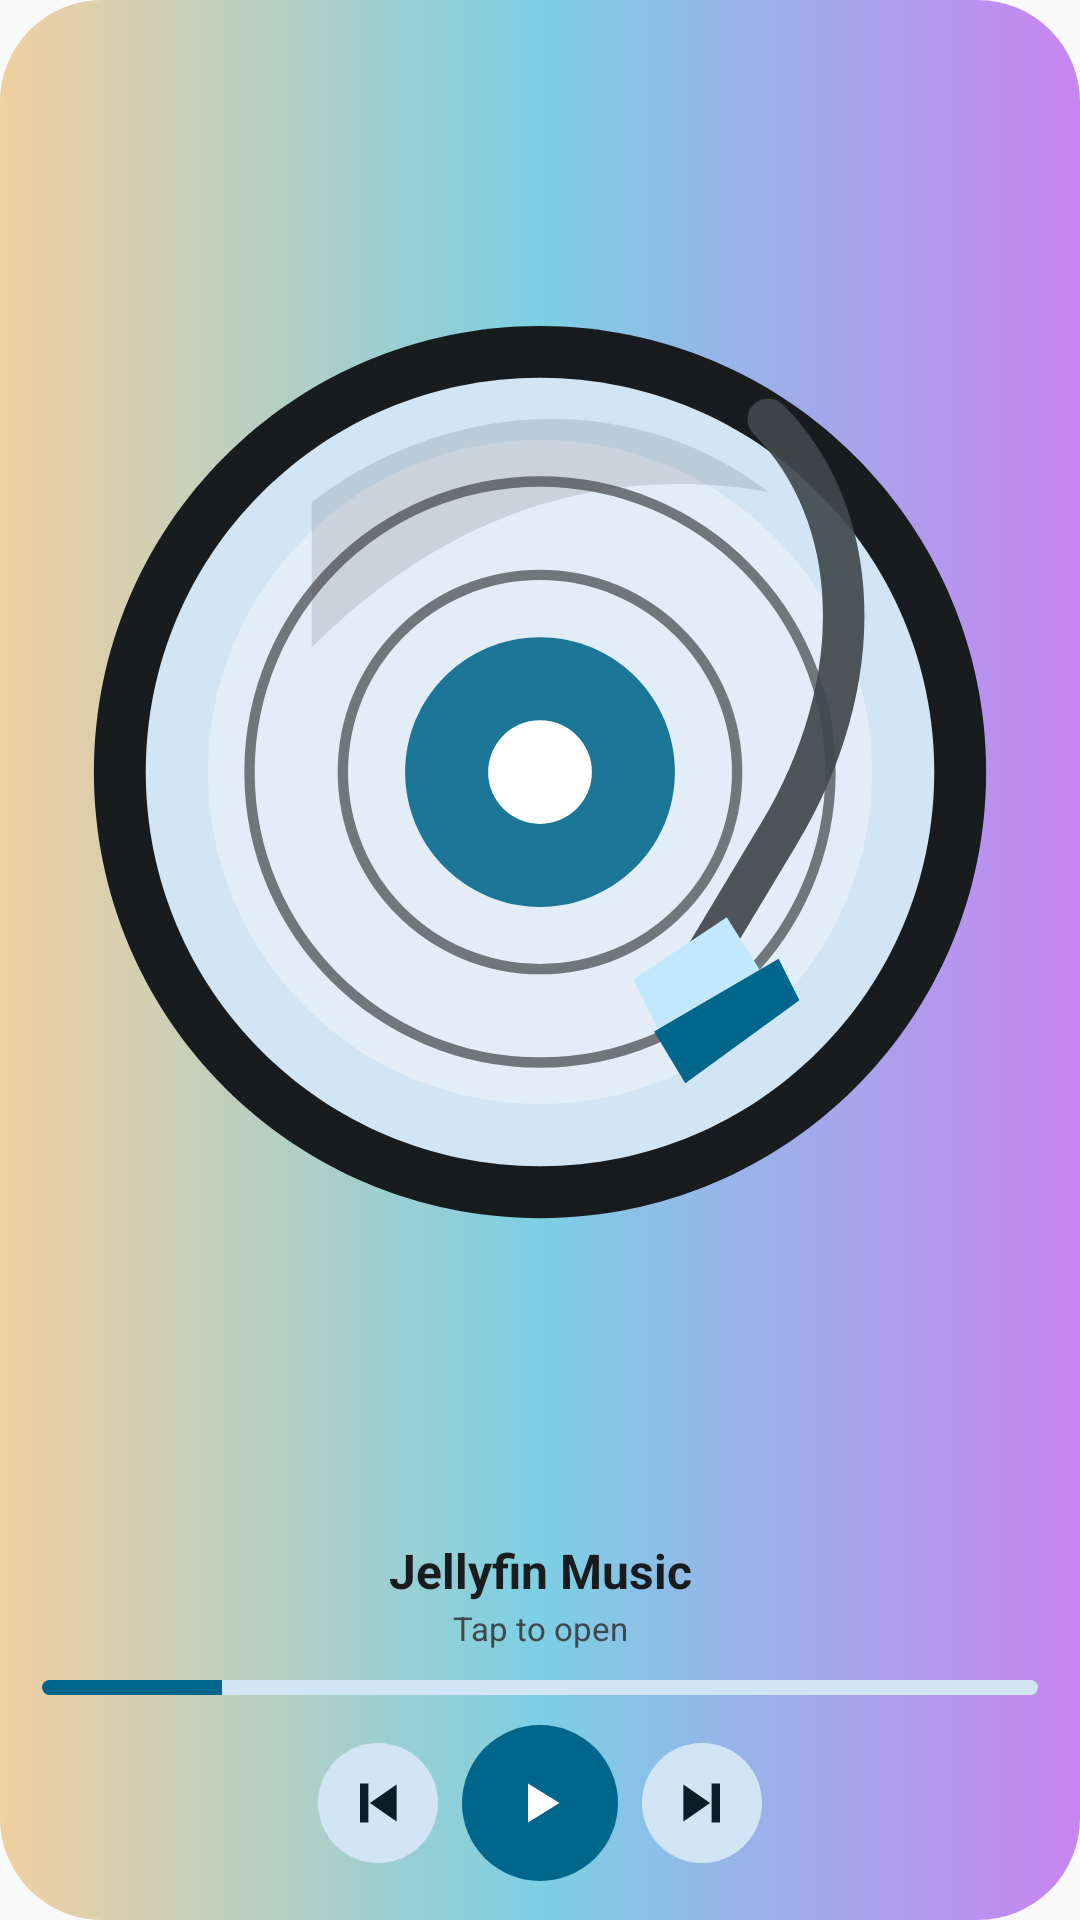

Icon click points for this 1080px x 1920px phone screenshot, format (x=x, y=y):
Next: (x=702, y=1803)
Play or pause: (x=540, y=1803)
Previous: (x=378, y=1803)
